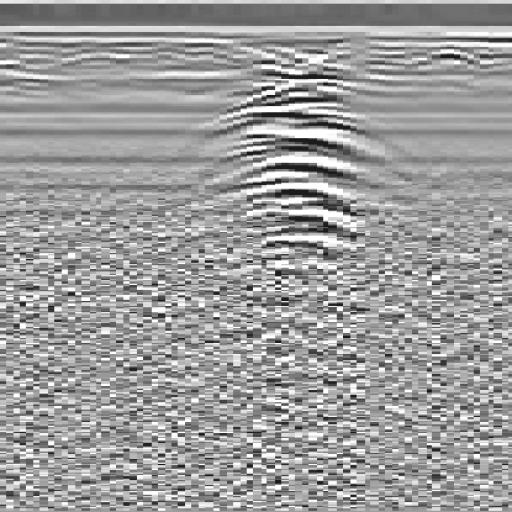metalic: (141, 49, 450, 316)
